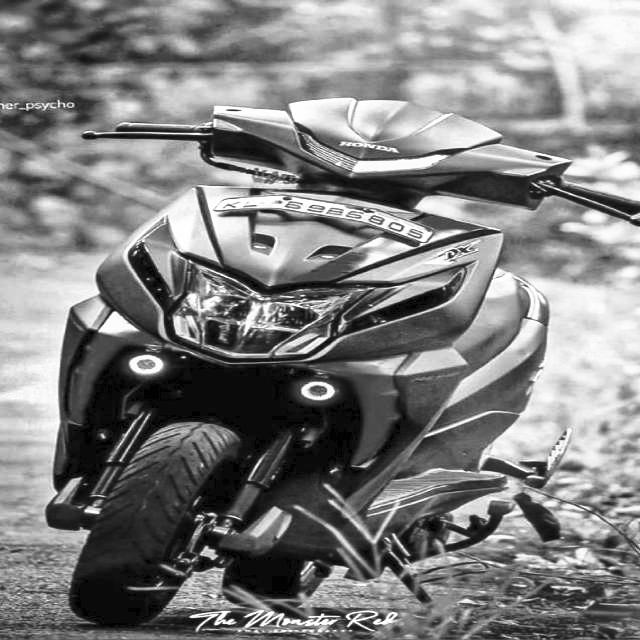Bike: (76, 105, 611, 631)
